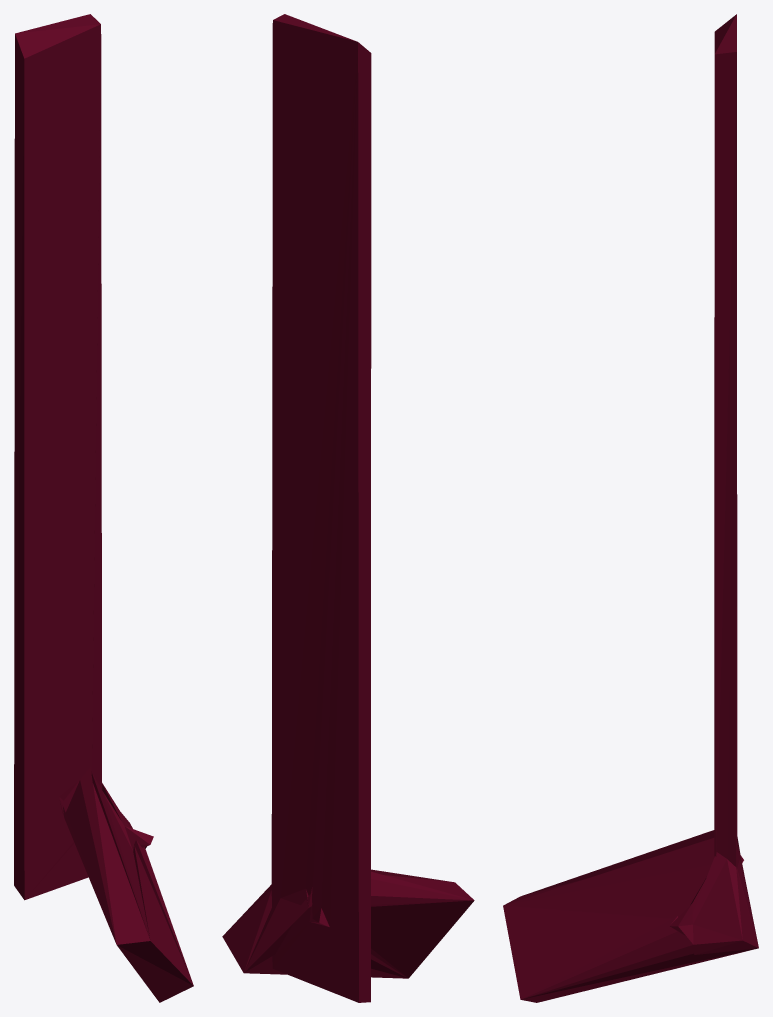
The picture shows the model from 3 angles, left to right: view 1: azimuth 30°, elevation 25°; view 2: azimuth 150°, elevation 25°; view 3: azimuth 270°, elevation 25°; orthographic projection. The views are drawn at different scales.
Visible parts, largest first — view 1: 740_Cube.2972; view 2: 740_Cube.2972; view 3: 740_Cube.2972.
Boxes of the visible parts, x1,y1,x2,y2 form: 740_Cube.2972: [14, 14, 193, 1002]; 740_Cube.2972: [222, 14, 474, 1002]; 740_Cube.2972: [503, 14, 758, 1002].
Bounding box in the file's own units: 1.77 × 13.02 × 3.13.
